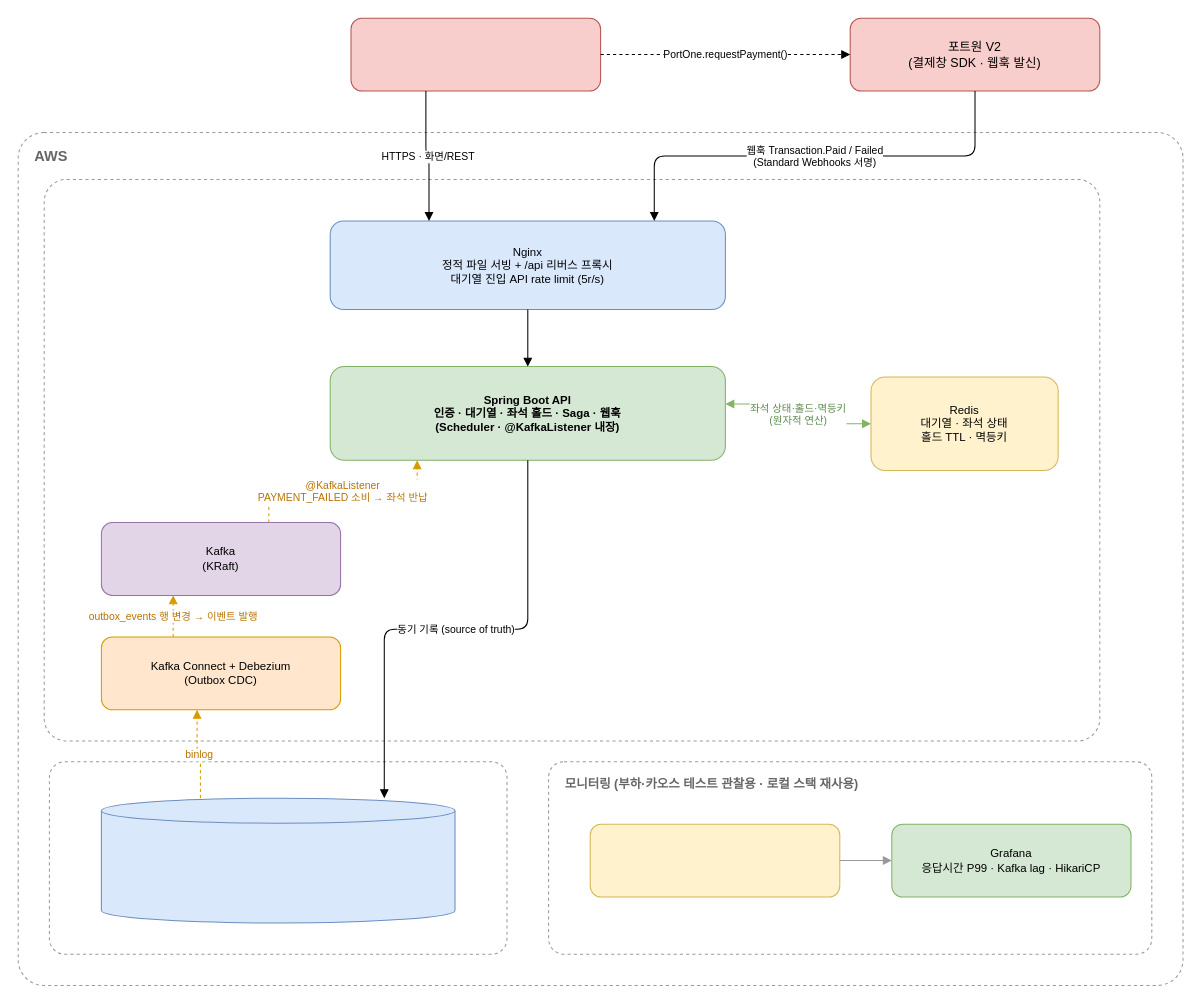
Some shapes in this 1201 by 1004 pixel diagram are drawn without their labels. The box of each missing label's shape, as (x1, y1, x2, y2) in pixels:
AWS EC2 · m6i.xlarge (Docker Compose): (43, 178, 1100, 741)
AWS RDS: (48, 761, 507, 954)
MySQL 8 — 정합성의 원천 reservation · reservation_seat outbox_events: (100, 797, 455, 923)
Prometheus 앱 /actuator/prometheus 스크랩: (589, 823, 840, 897)
사용자 브라우저 (React SPA): (350, 17, 601, 91)
